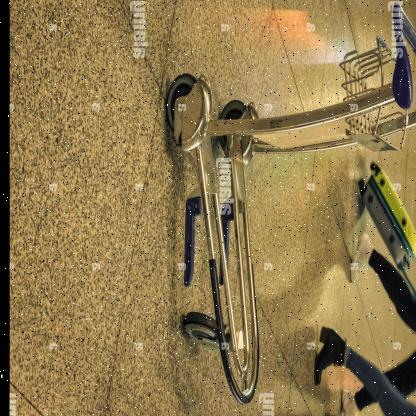airport-trolley: (160, 1, 416, 416)
